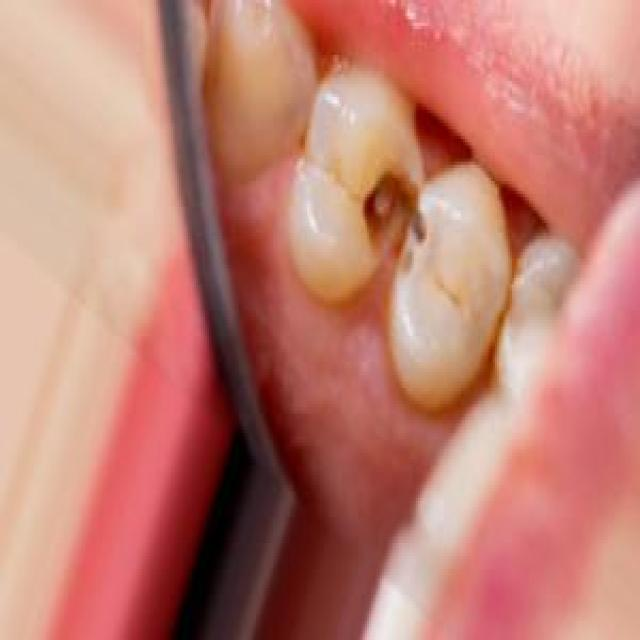caries: (340, 143, 448, 292)
